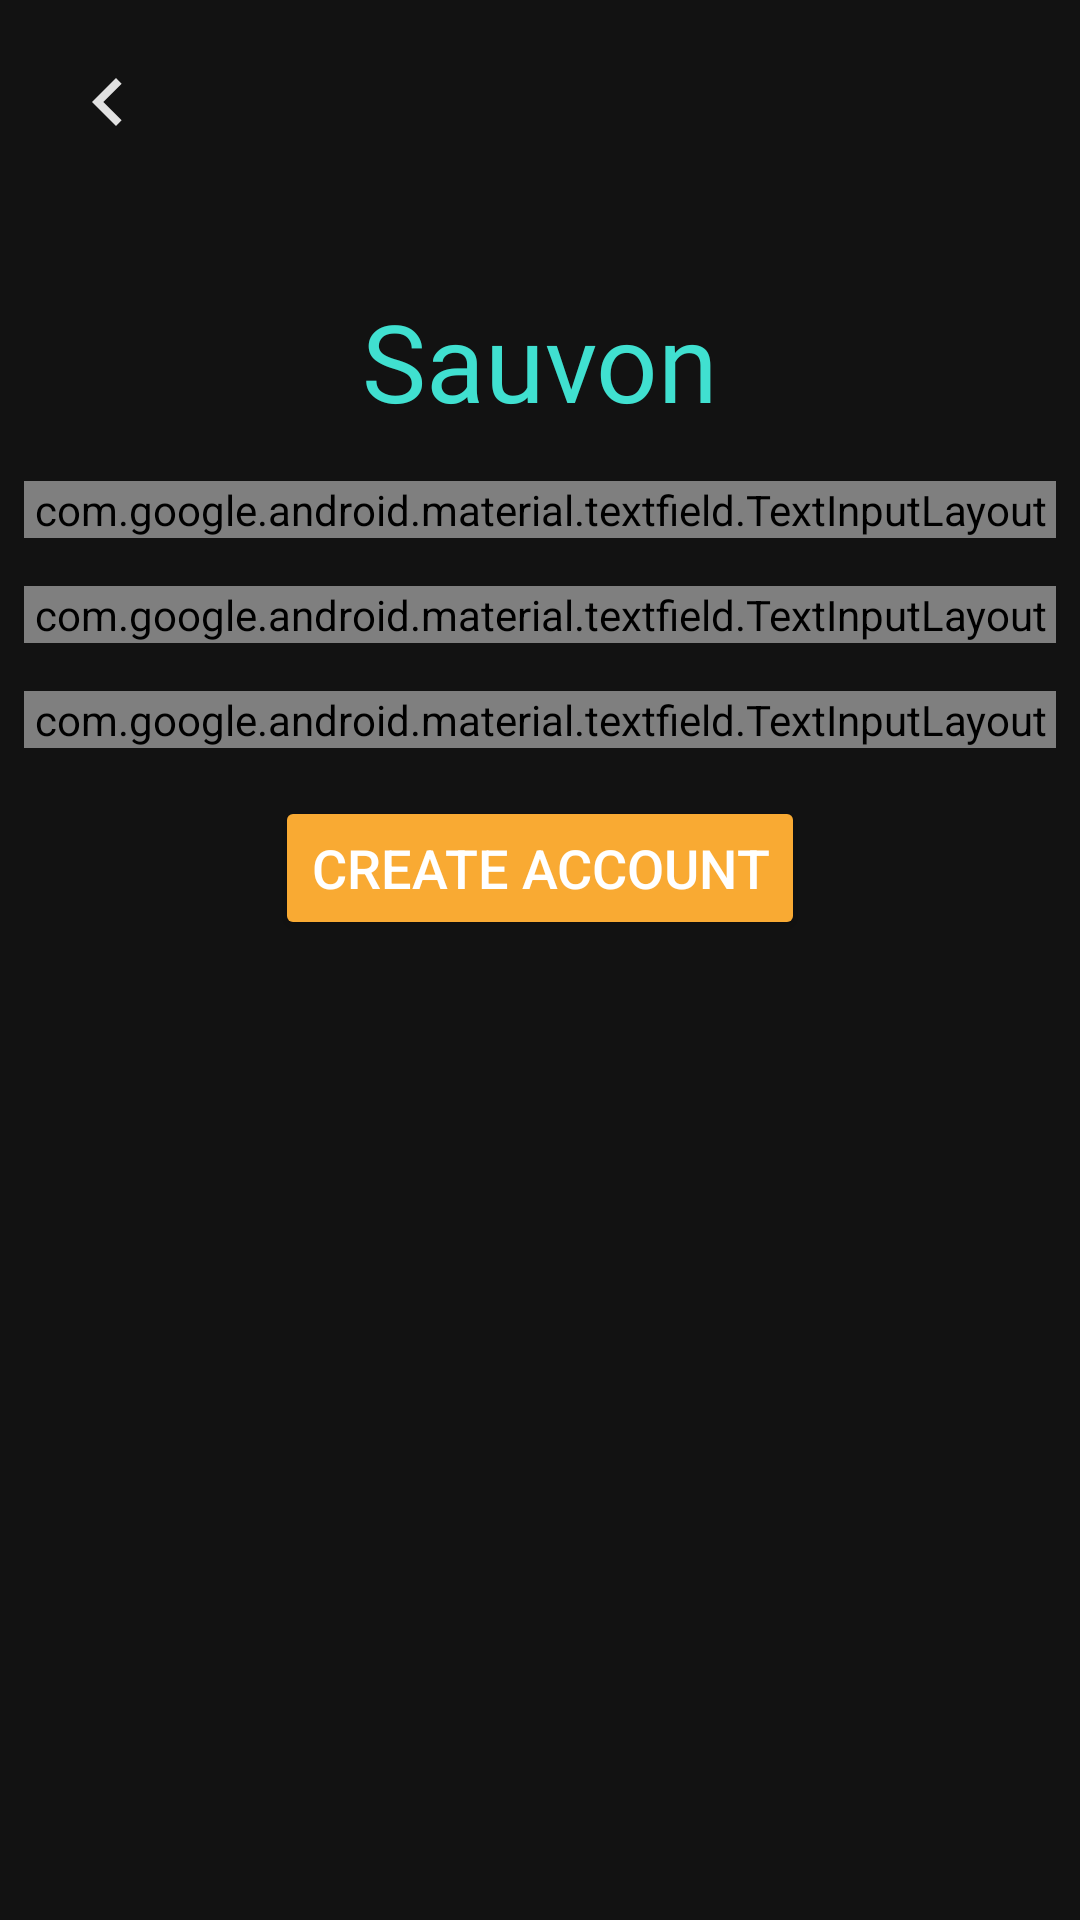

Icon bounding boxes for this 1080px×1920px phone screenshot, format (x1=x1, y1=y1, x2=x2, y2=y2):
chevron left: (x1=92, y1=78, x2=122, y2=126)
